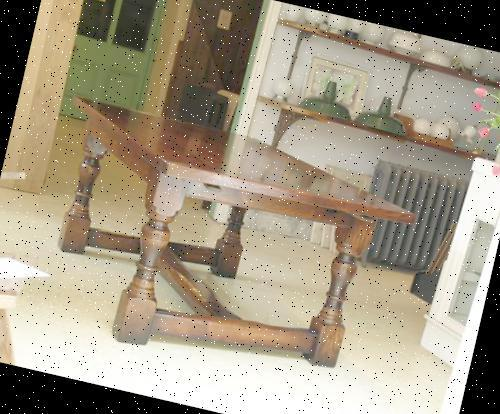Mesa: (21, 93, 425, 389)
